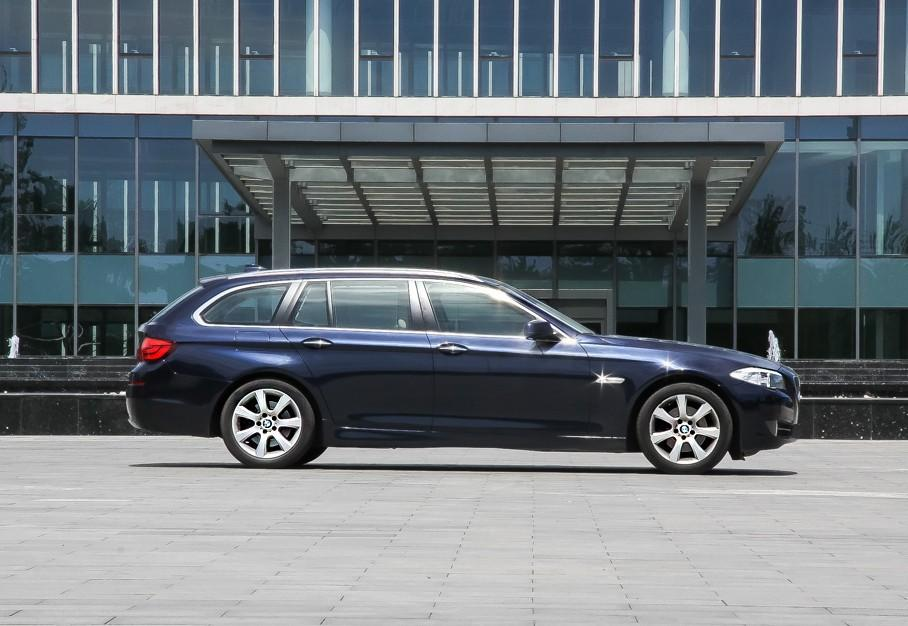Wagon: (126, 264, 800, 475)
